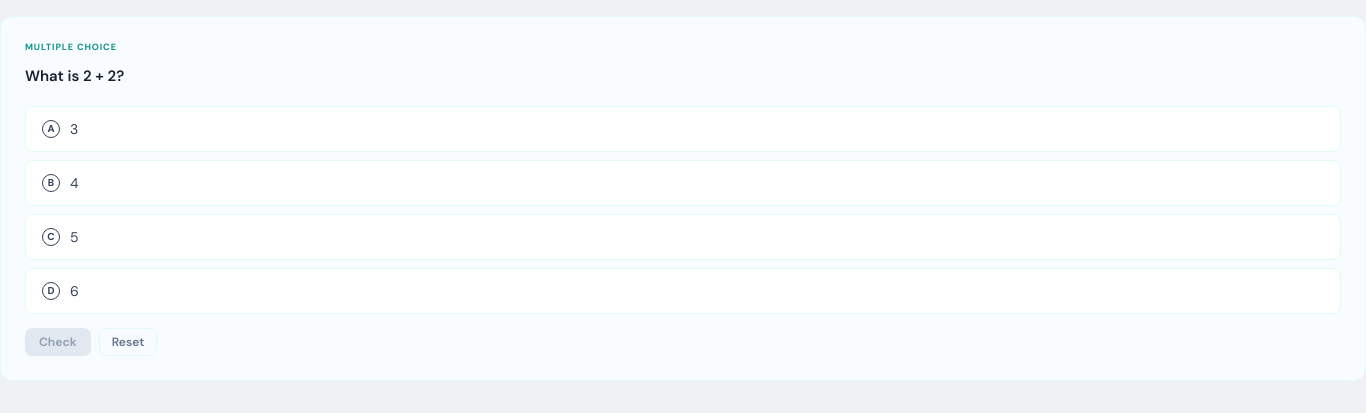
Scenario: QuizView › Reset clears selection and hides result
What coordinates should you click on to do the following:
click the button "B 4"
I would click on:
 (51, 183)
Its box is [25,160,1341,206].
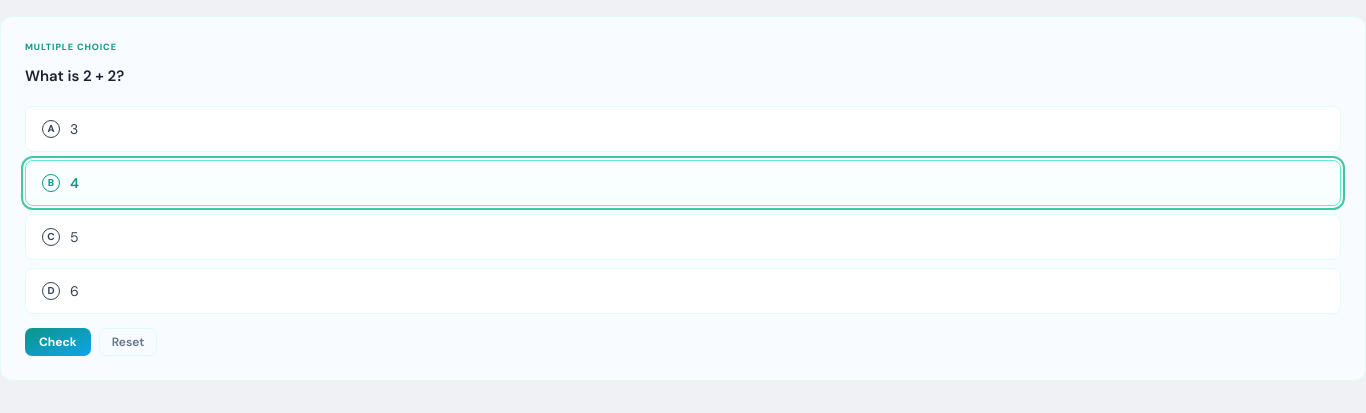
What coordinates should you click on to do the following:
click the button "Check"
I would click on:
 (58, 342)
Its box is [25,328,91,356].
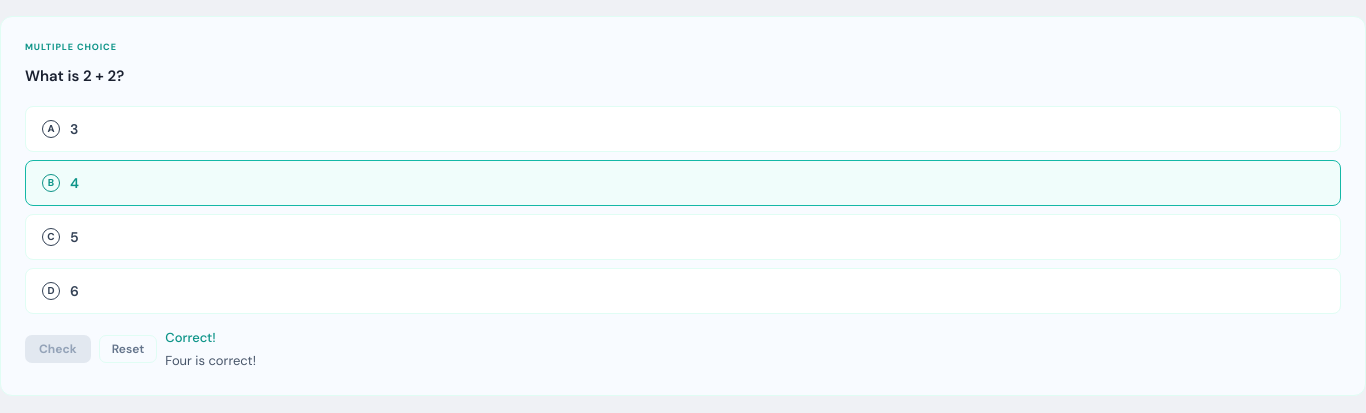
expect the text "Correct!" is shown: met, box [165,329,216,346]
What coordinates should you click on to do the following:
click the button "Reset"
I would click on:
 (128, 349)
Its box is [99,335,157,363].
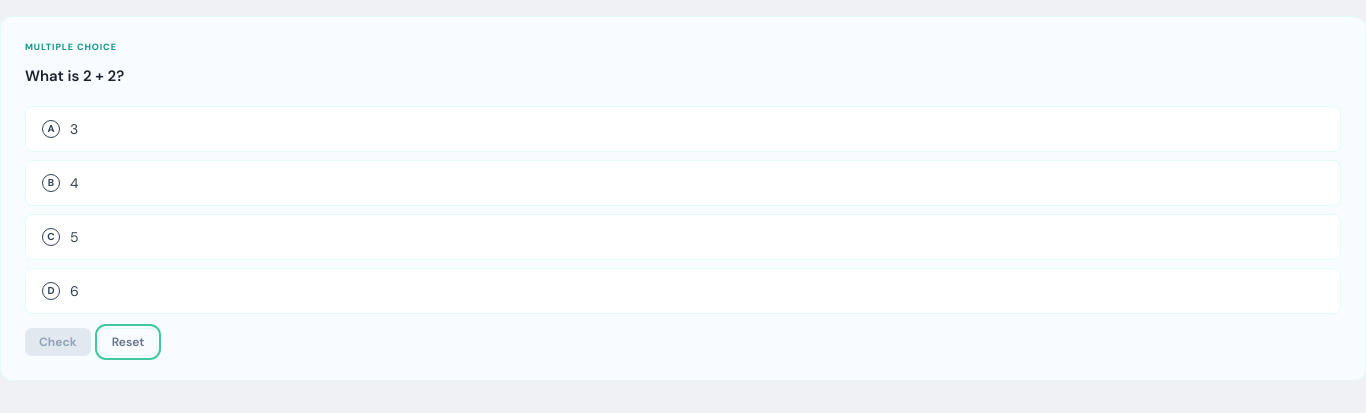
expect the button "Check" is disabled: met, box [25,328,91,356]
expect the text "Correct!" is gone: met
